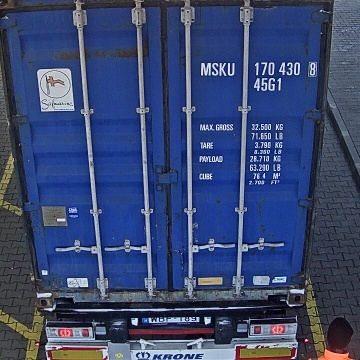serial_id: (199, 61, 317, 76)
